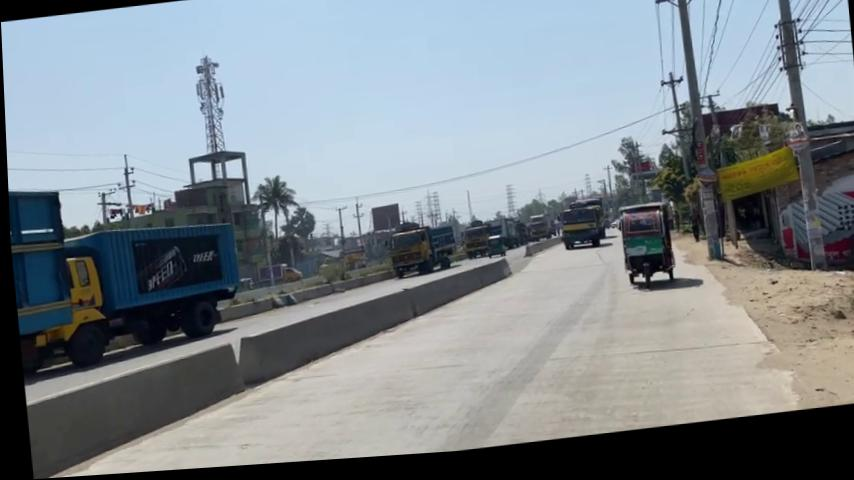Fence: (686, 217, 699, 252)
Garbage: (730, 0, 833, 288), (768, 0, 823, 284), (669, 0, 721, 272)
Rickshaw: (6, 165, 243, 374), (613, 208, 675, 300), (377, 222, 460, 287), (551, 207, 611, 264)
